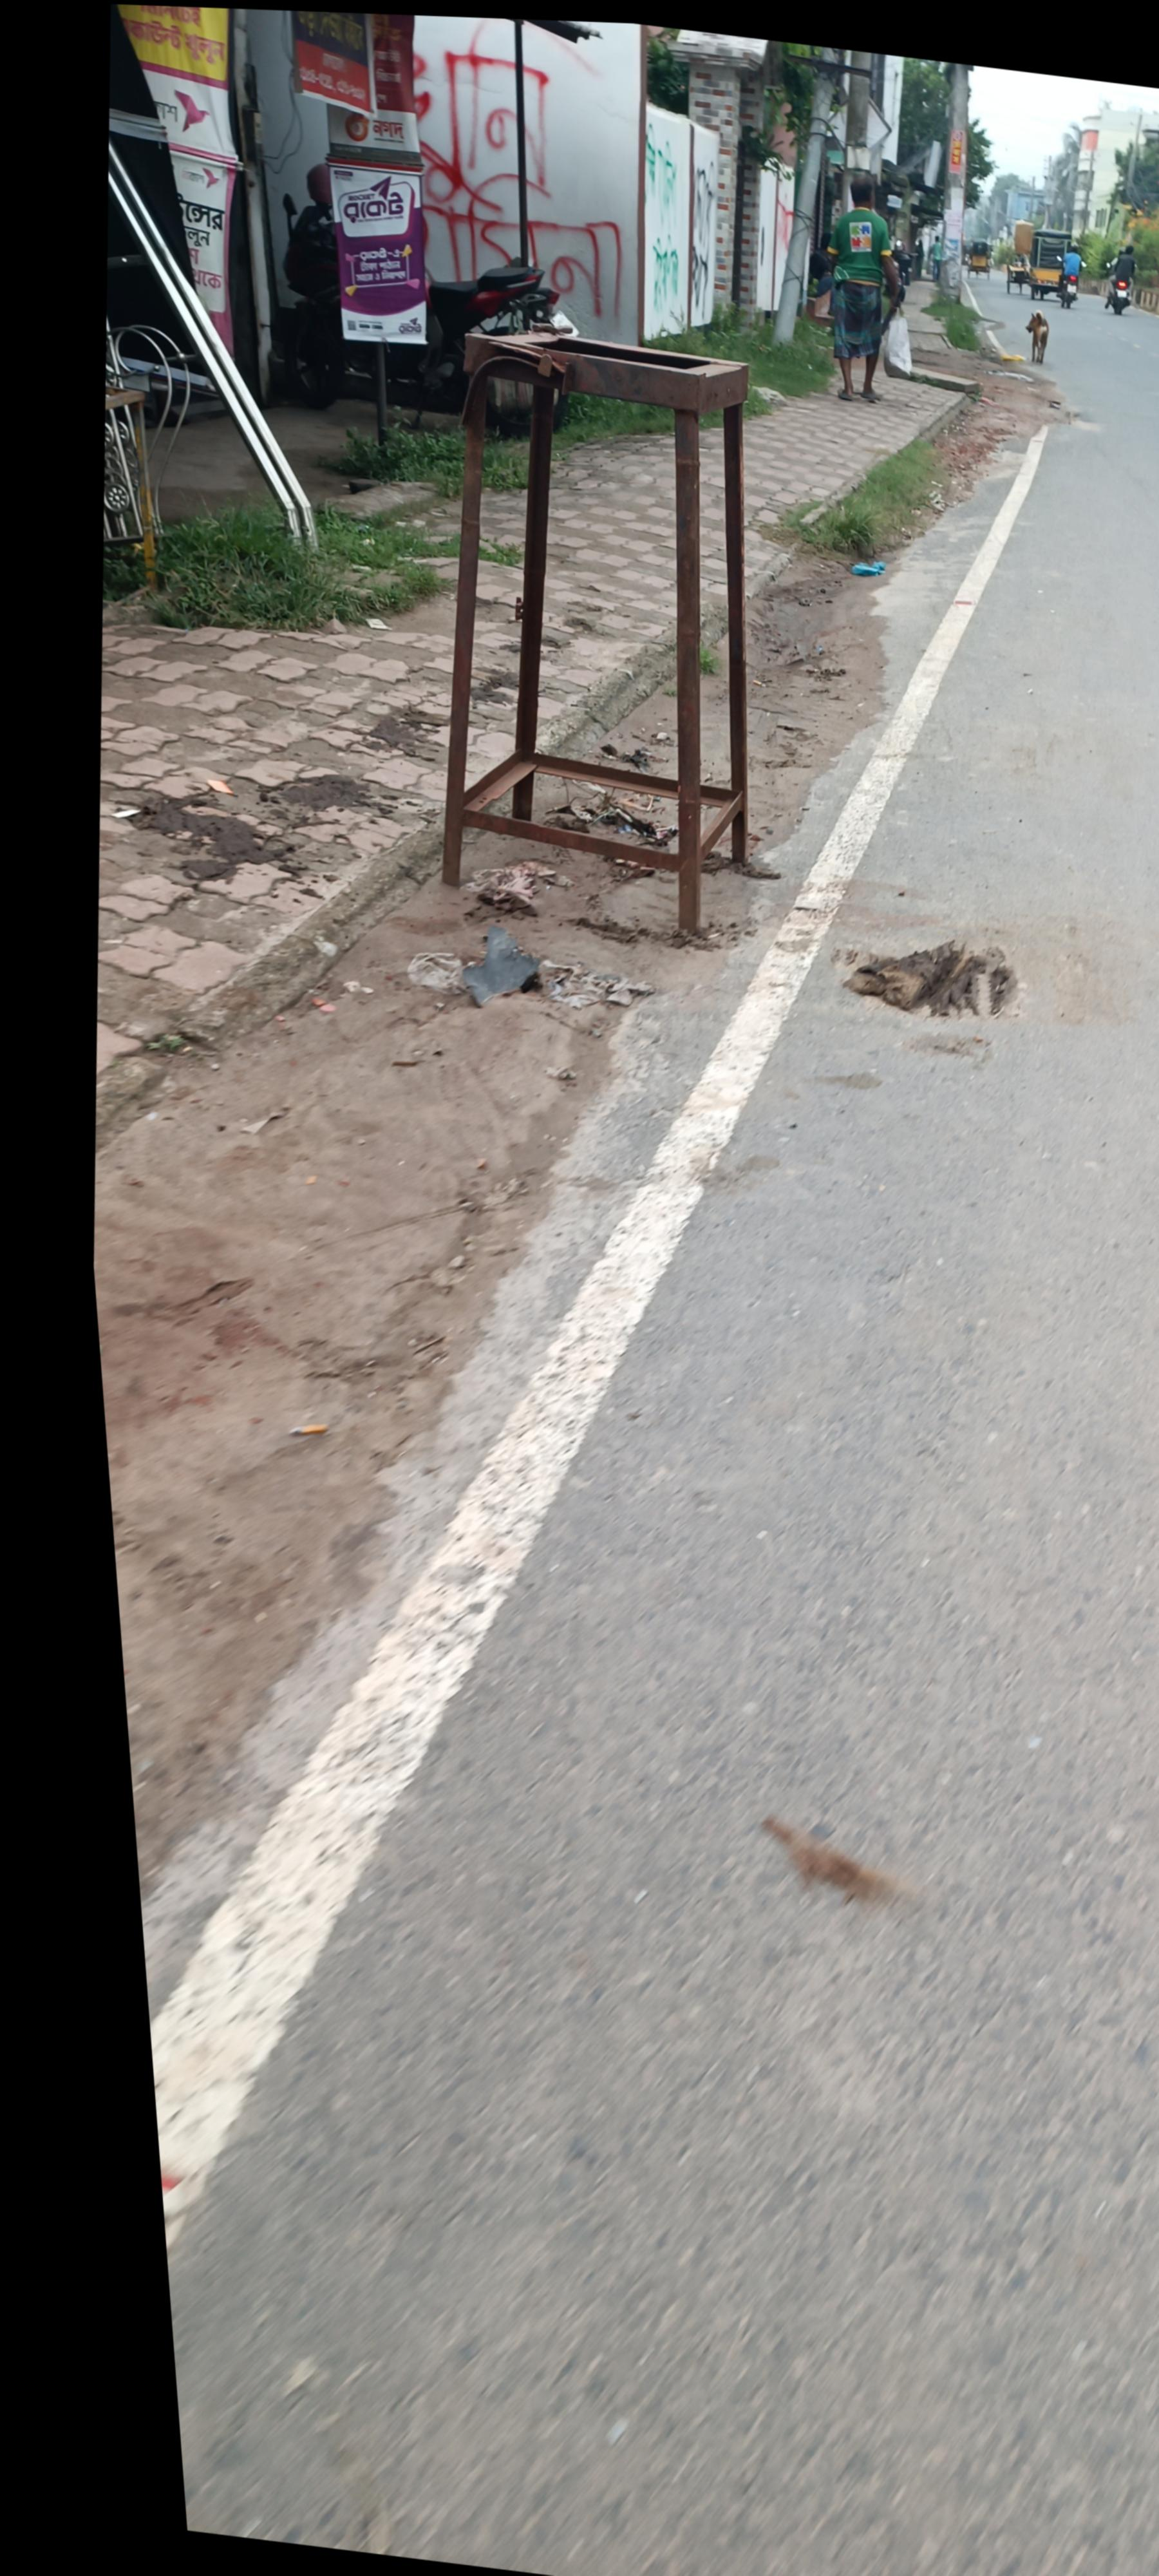Fallen-tree: (361, 117, 696, 399)
Garbage: (497, 271, 895, 895)
Garbage-bin: (906, 117, 1023, 360)
Traffic-cone: (1128, 179, 1159, 258)
